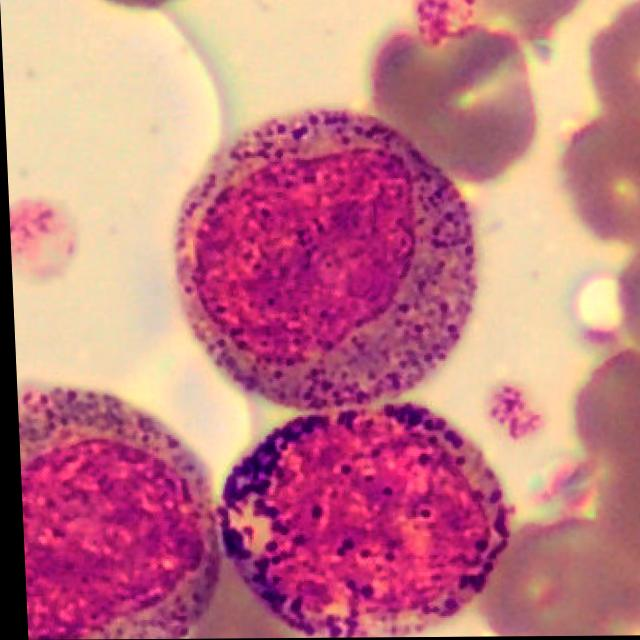Mielocito: (171, 109, 476, 410), (14, 389, 219, 640)
